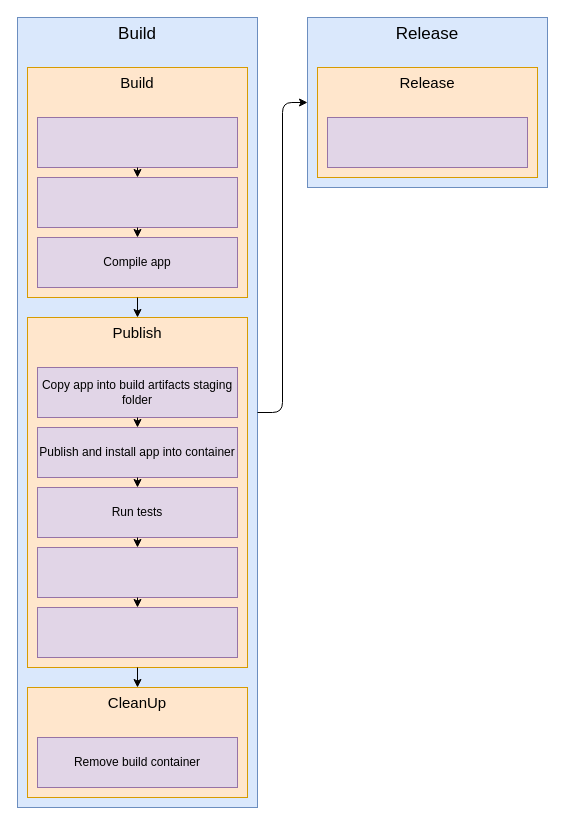
The diagram is 565 pixels wide and 825 high, and some of its shapes have lost their labels. The shapes that lost their labels are listed below. From the top down, each one's centre as x and y in pixels, then its label:
At [137,142]: "Create build container".
At [427,142]: "Copy artifacts to release directory".
At [137,202]: "Copy source into container folder".
At [137,572]: "Upload test results".
At [137,632]: "Publish build artifacts".
